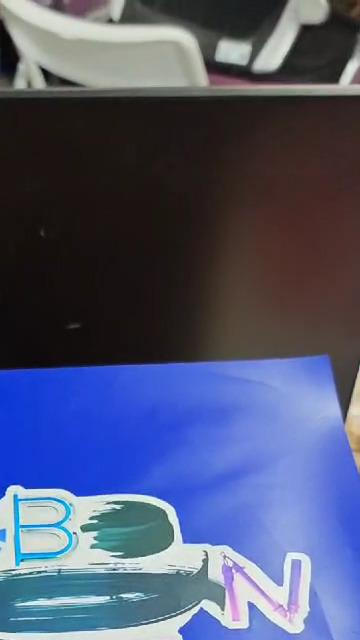B_R1: (0, 484, 352, 640)
